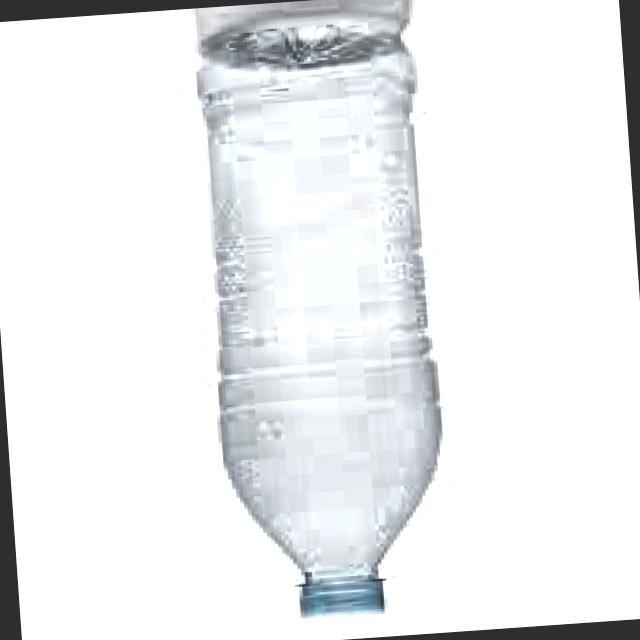plastic bottle: (200, 24, 440, 614)
